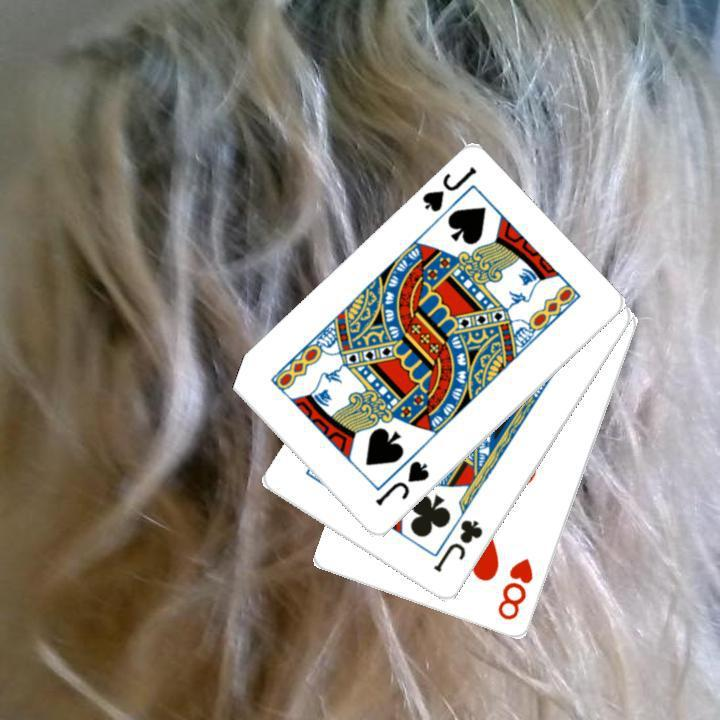8: (493, 554, 536, 623)
J: (429, 515, 485, 575), (417, 162, 479, 215), (371, 456, 432, 509)
